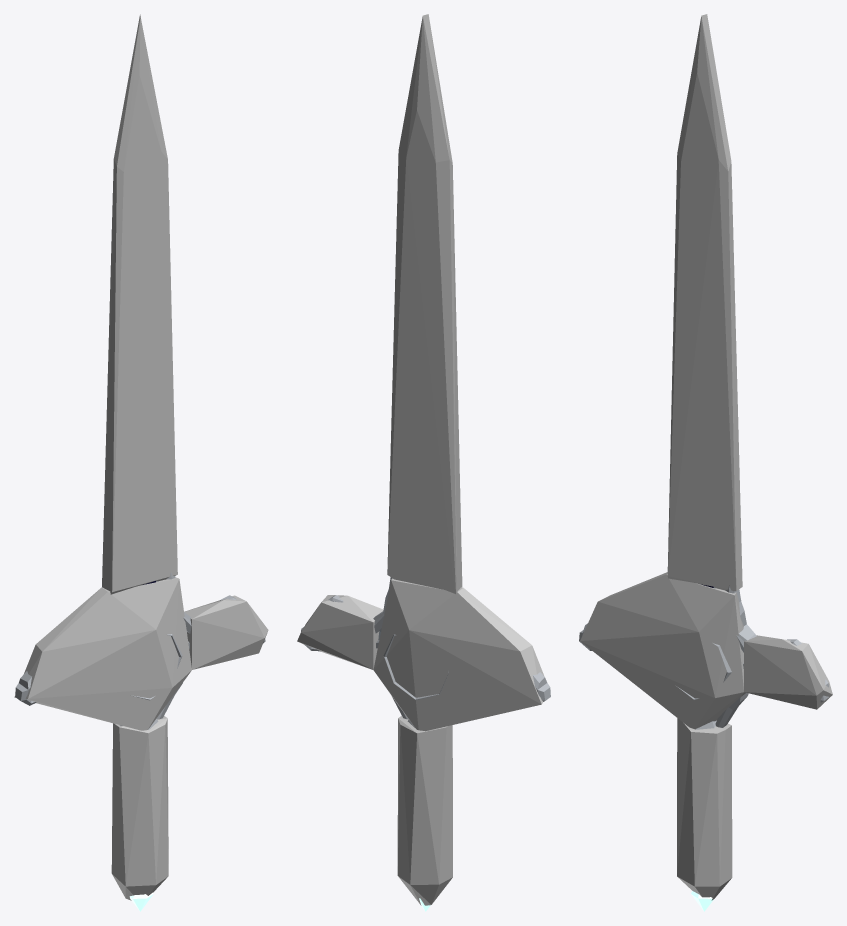
File: SM_Wep_Sword_01.fbx
3 views of the same model, side by side, from view 1: azimuth 30°, elevation 25°; view 2: azimuth 150°, elevation 25°; view 3: azimuth 330°, elevation 25° (orthographic).
Visible parts, largest first — view 1: SM_Wep_Sword_01_ConvexHulls, SM_Wep_Sword_01; view 2: SM_Wep_Sword_01_ConvexHulls, SM_Wep_Sword_01; view 3: SM_Wep_Sword_01_ConvexHulls, SM_Wep_Sword_01.
Part boxes in pixels (x1=…): SM_Wep_Sword_01_ConvexHulls: x1=14, y1=14, x2=268, y2=900; SM_Wep_Sword_01: x1=15, y1=572, x2=265, y2=911; SM_Wep_Sword_01_ConvexHulls: x1=297, y1=14, x2=544, y2=905; SM_Wep_Sword_01: x1=301, y1=577, x2=550, y2=911; SM_Wep_Sword_01_ConvexHulls: x1=580, y1=14, x2=832, y2=900; SM_Wep_Sword_01: x1=579, y1=584, x2=828, y2=911.
Bounding box in the file's own units: 45.07 × 7.88 × 157.
2 materials, 1 textured.
